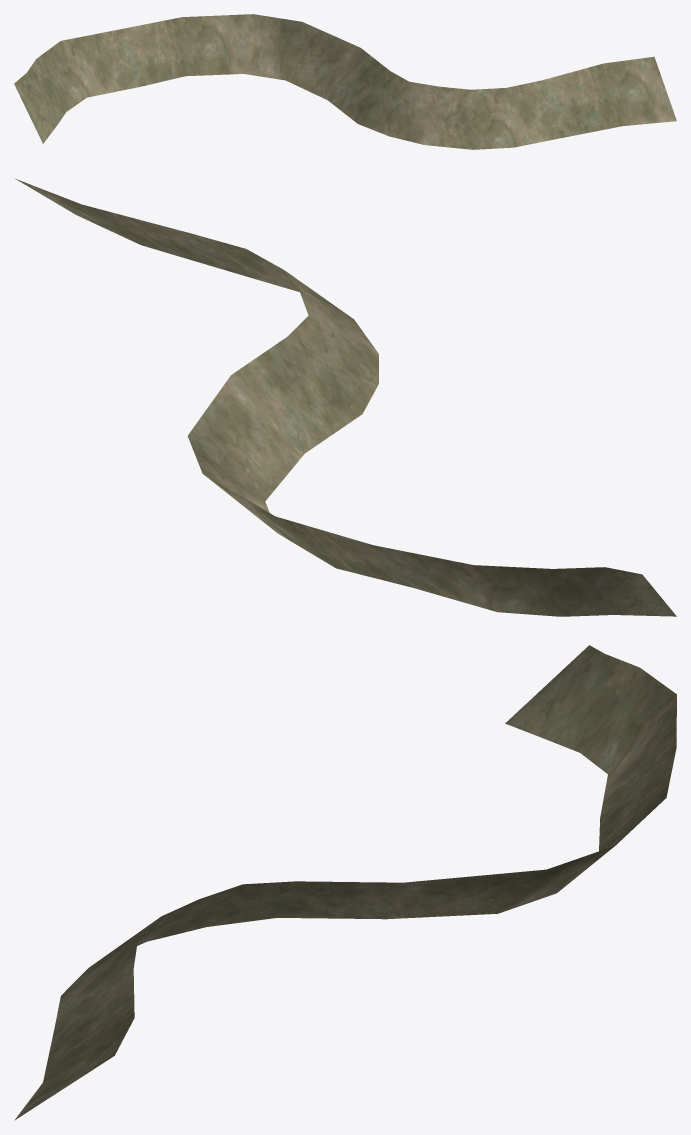
The model's file is OVERHILL_A_01_OBJECT182.fbx.
The picture shows the model from 3 angles, top to bottom: view 1: azimuth 30°, elevation 25°; view 2: azimuth 150°, elevation 25°; view 3: azimuth 270°, elevation 25°; orthographic projection. The views are drawn at different scales.
Parts seen in each view (by area): view 1: OVERHILL_A_01_OBJECT182; view 2: OVERHILL_A_01_OBJECT182; view 3: OVERHILL_A_01_OBJECT182.
Boxes of the visible parts, bbox=[...] form: OVERHILL_A_01_OBJECT182: bbox=[14, 14, 676, 149]; OVERHILL_A_01_OBJECT182: bbox=[15, 178, 676, 616]; OVERHILL_A_01_OBJECT182: bbox=[14, 645, 676, 1120].
Size of the model in its own units: 261934 by 24922 by 174551.
1 material, 1 textured.
